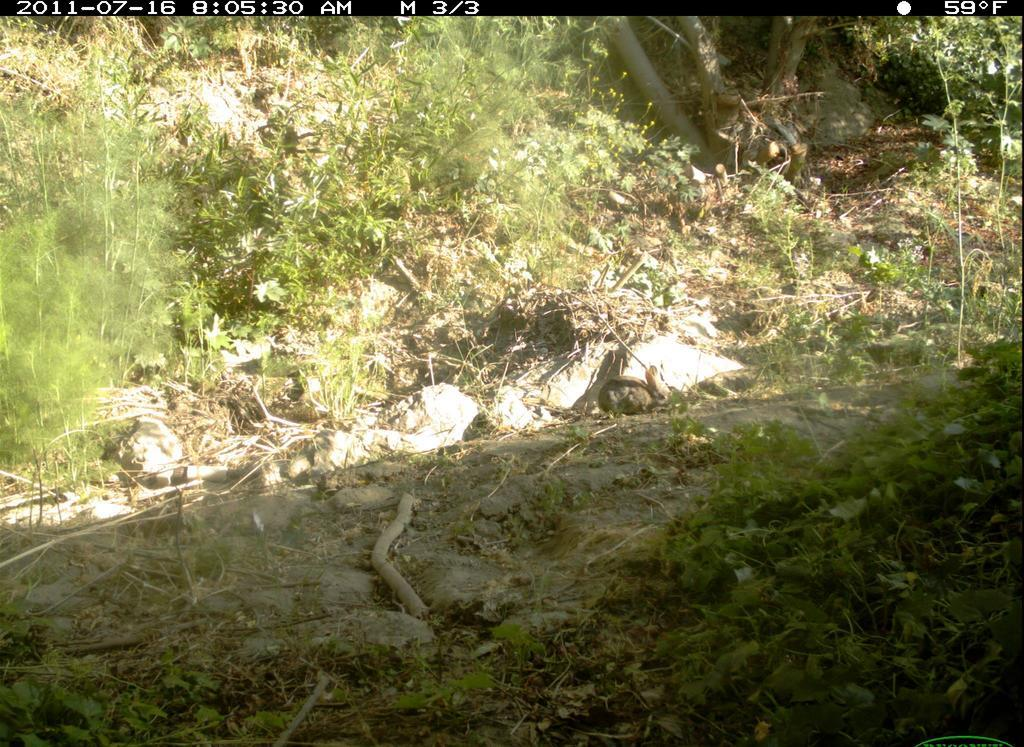rabbit: (598, 363, 676, 422)
